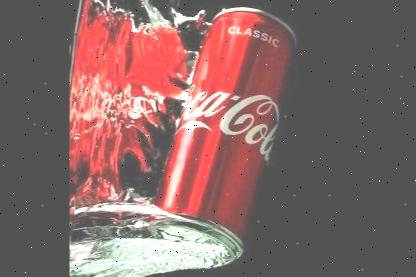Can: (152, 5, 300, 268)
